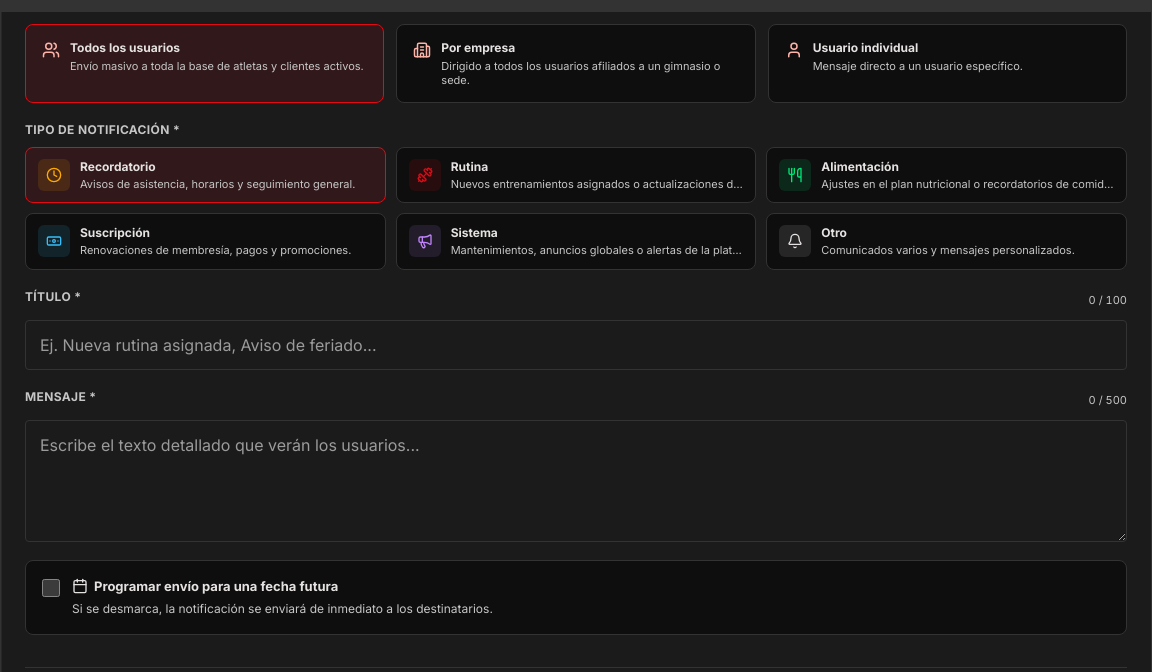
NotificacionForm › exige fecha futura cuando se activa la programación
This screenshot has width=1152, height=672.
(page scrolled)
Type "Aviso programado" into the field with id "notif-titulo" at [576, 345], box [25,320,1127,370]
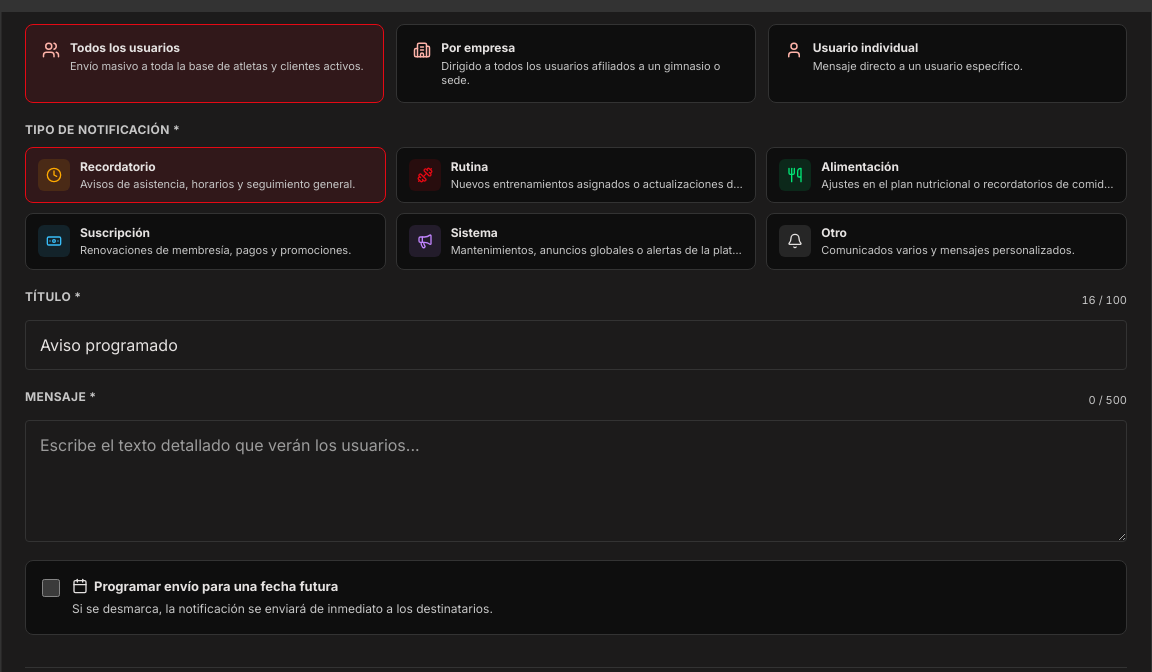
Type "Contenido que se enviará más adelante." into the text box with id "notif-mensaje" at [576, 481], box [25,420,1127,542]
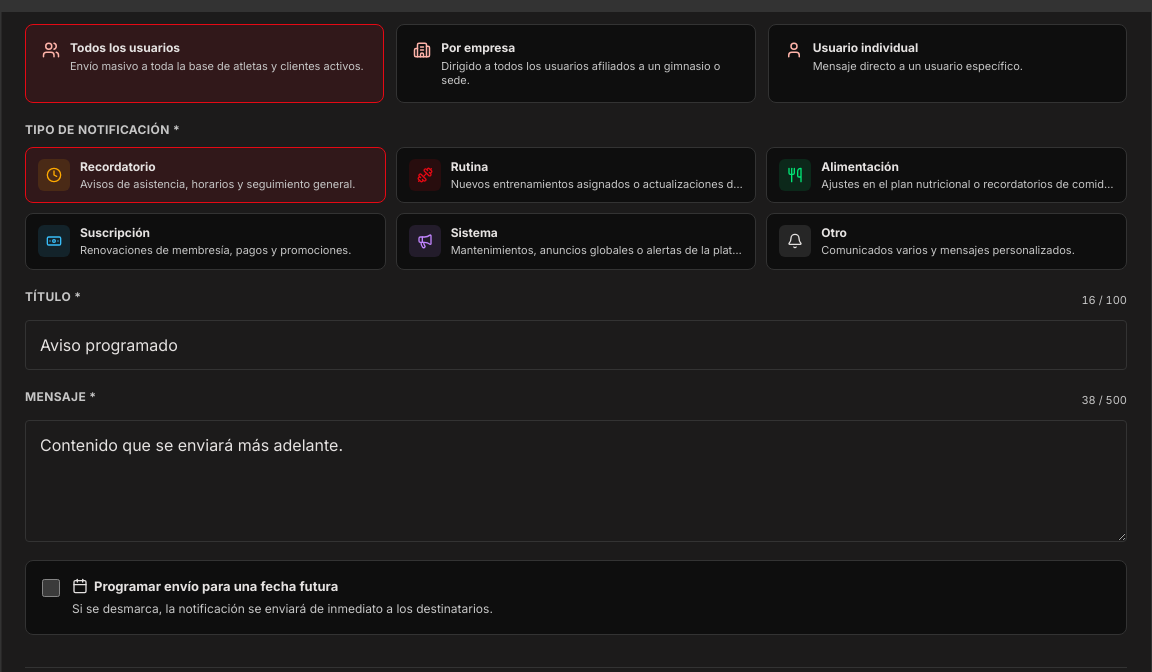
Click the checkbox named "programar" at [51, 588], box [42,579,60,597]
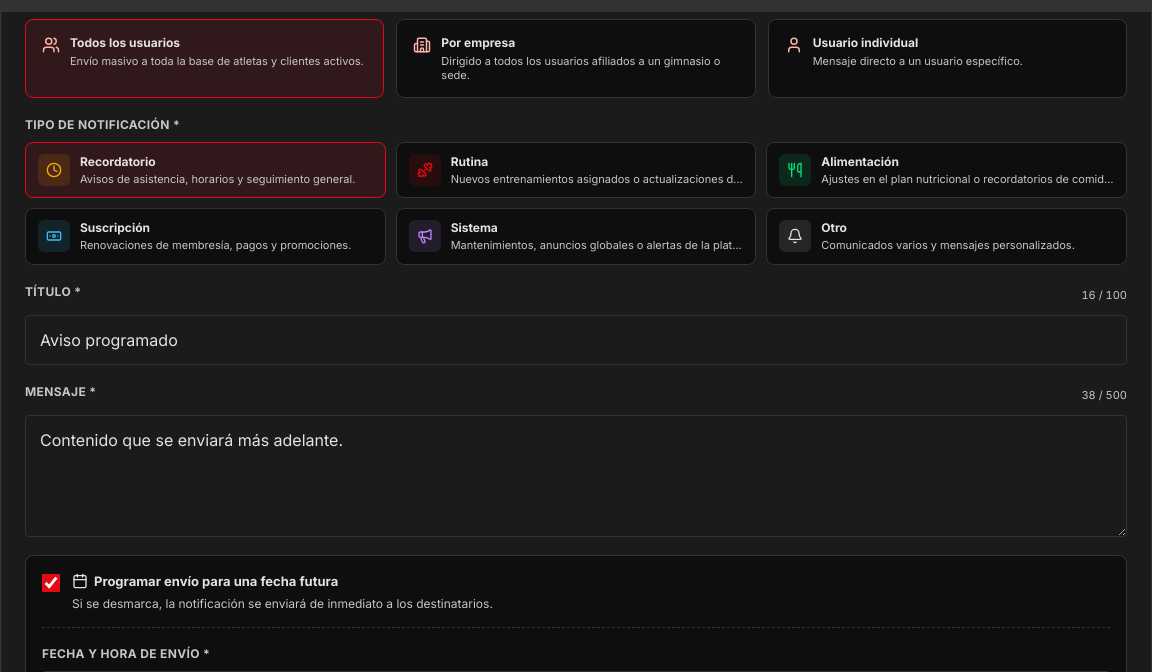
Submit the form
(page scrolled)
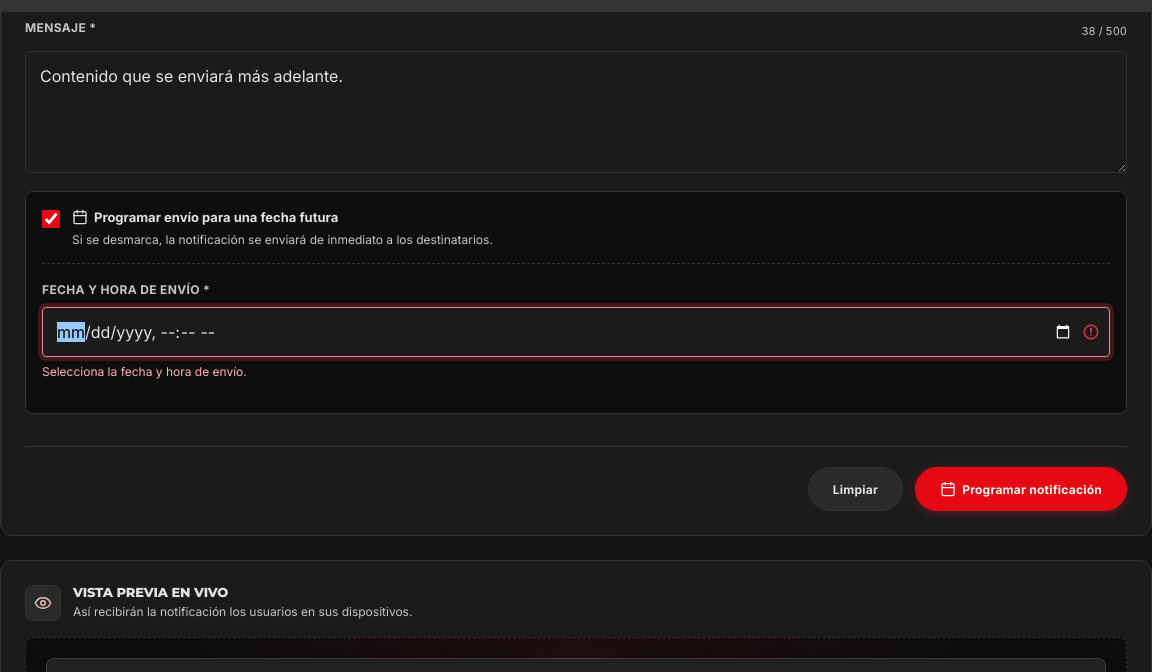
expect the message with id "error-fecha" shows "fecha y hora": met, box [42,364,247,379]
